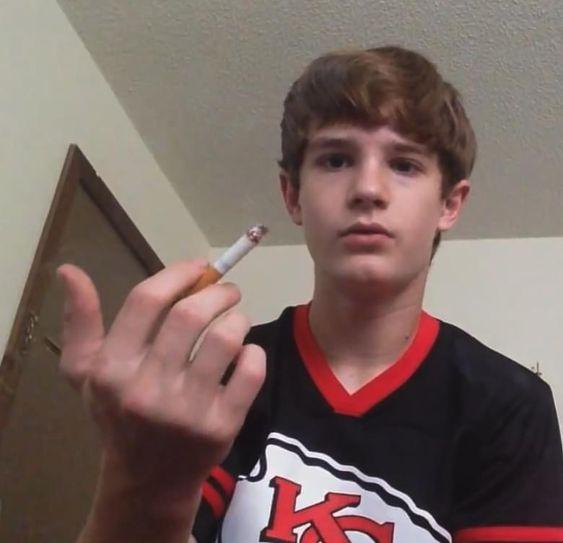cigarette: (182, 223, 270, 298)
